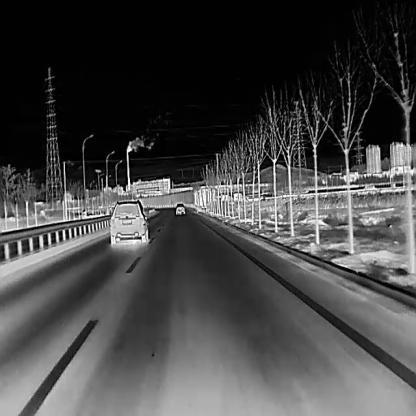car: (108, 199, 147, 246), (174, 201, 185, 215)
